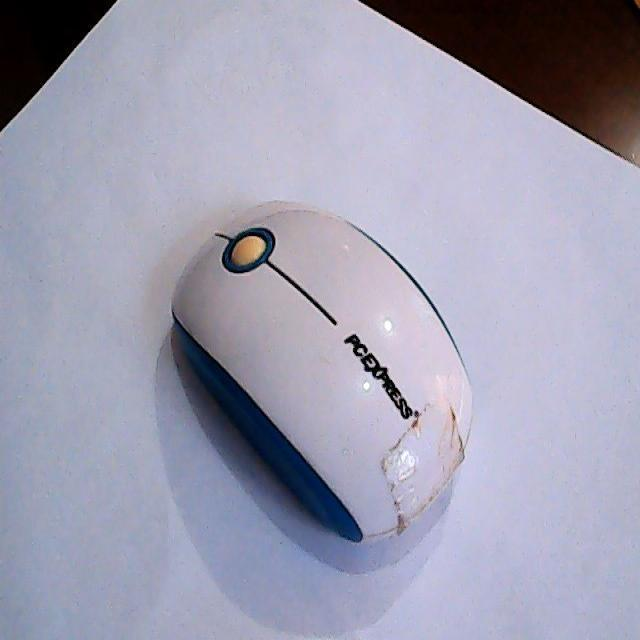Mouse: (168, 198, 478, 556)
